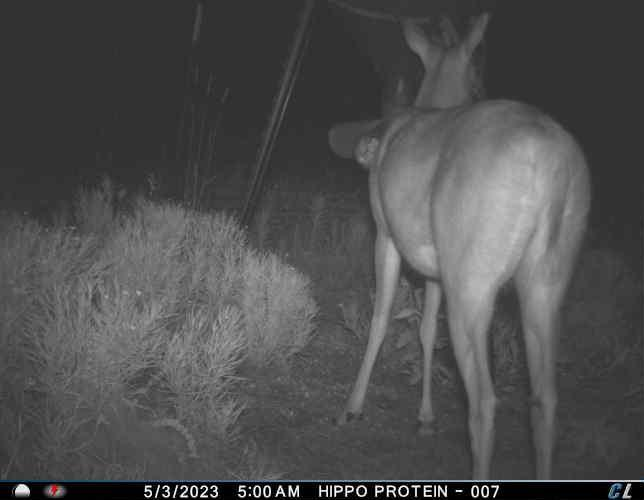Deer: (341, 7, 597, 481)
